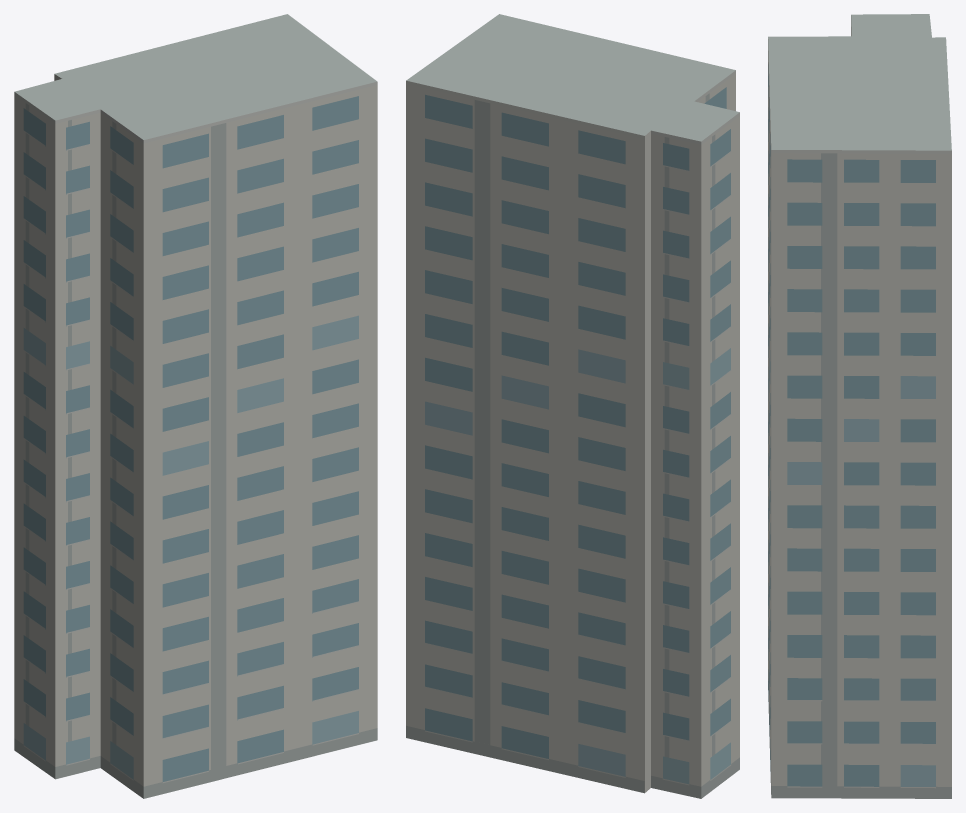
The model's file is residential-9601f579-f9b3-42ed-977e-0cb38f0df6d1.glb.
3 renders of one model, left to right at view 1: azimuth 30°, elevation 25°; view 2: azimuth 150°, elevation 25°; view 3: azimuth 270°, elevation 25°, orthographic.
Parts seen in each view (by area): view 1: residential-9601f579-f9b3-42ed-977e-0cb38f0df6d1.tmp; view 2: residential-9601f579-f9b3-42ed-977e-0cb38f0df6d1.tmp; view 3: residential-9601f579-f9b3-42ed-977e-0cb38f0df6d1.tmp.
Boxes of the visible parts, box(x1,y1,x2,y2) form: residential-9601f579-f9b3-42ed-977e-0cb38f0df6d1.tmp: box(14, 14, 377, 798); residential-9601f579-f9b3-42ed-977e-0cb38f0df6d1.tmp: box(406, 14, 739, 798); residential-9601f579-f9b3-42ed-977e-0cb38f0df6d1.tmp: box(768, 14, 951, 798).
Size of the model in its own units: 22.16 by 49 by 12.6.
